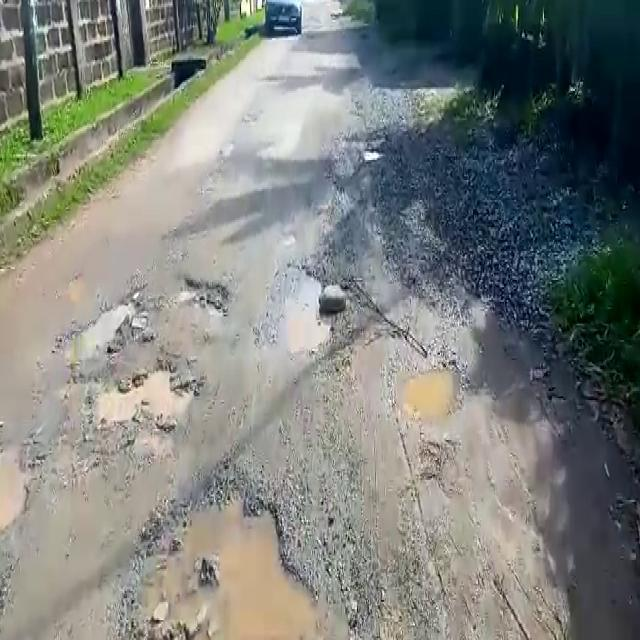pothole: (130, 485, 359, 640), (87, 351, 203, 429), (56, 282, 147, 376), (262, 263, 333, 353), (391, 363, 462, 428), (0, 440, 33, 533), (176, 275, 233, 314)
